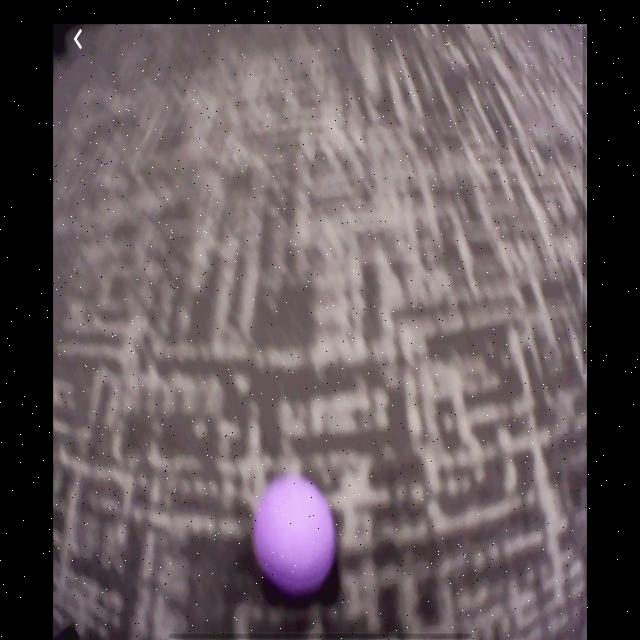ball: (253, 477, 335, 594)
